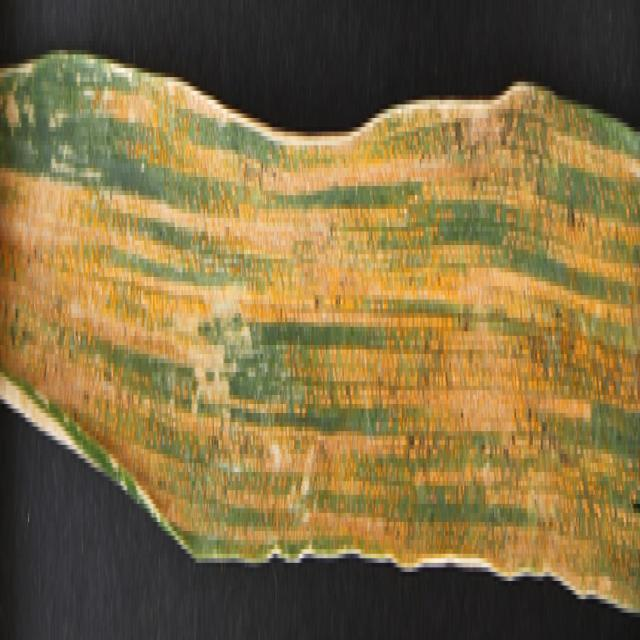leaf rust: (1, 77, 640, 594)
